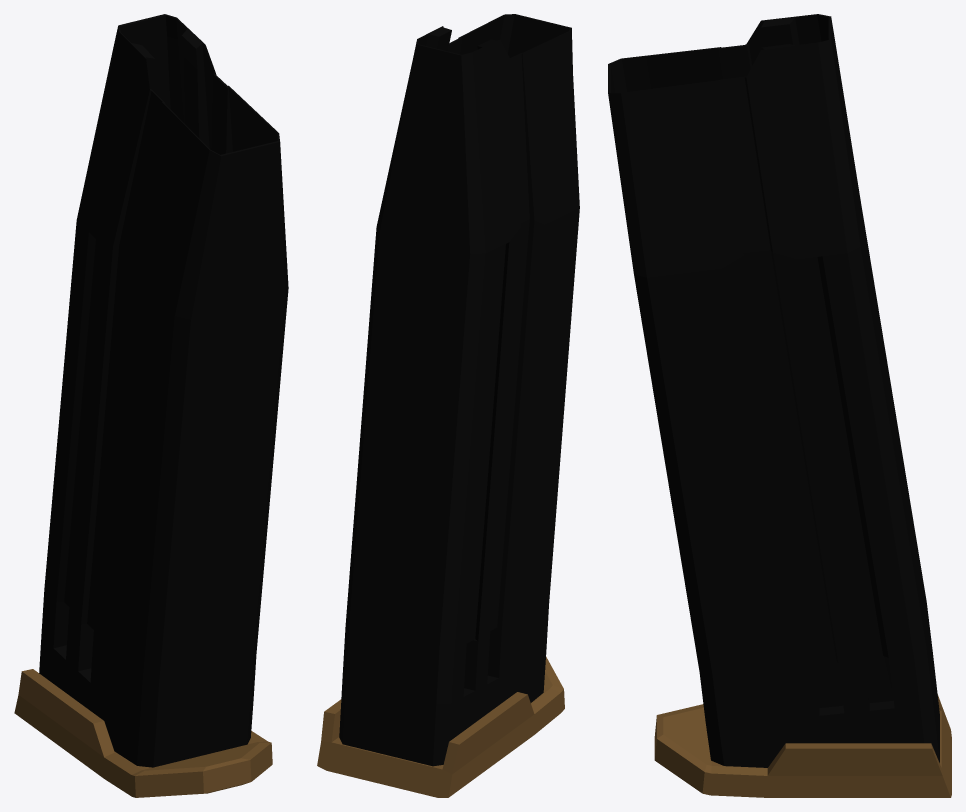
File: Mag.obj
The picture shows the model from 3 angles, left to right: view 1: azimuth 30°, elevation 25°; view 2: azimuth 150°, elevation 25°; view 3: azimuth 270°, elevation 25°; orthographic projection. The views are drawn at different scales.
Visible parts, largest first — view 1: Cube.005_Cube.006; view 2: Cube.005_Cube.006; view 3: Cube.005_Cube.006.
Boxes of the visible parts, x1,y1,x2,y2 form: Cube.005_Cube.006: (14,14,288,797); Cube.005_Cube.006: (317,14,579,797); Cube.005_Cube.006: (608,14,951,797).
Bounding box in the file's own units: 0.0388 × 0.1901 × 0.0803.
